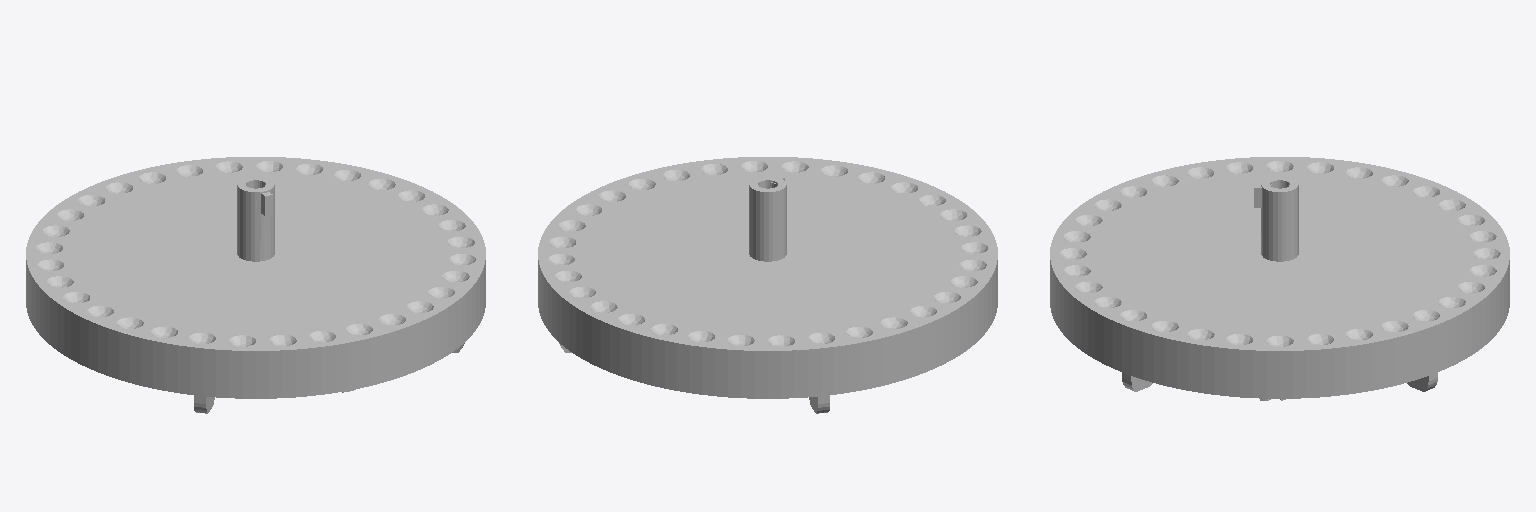
File: MDial.obj
3 renders of one model, left to right at view 1: azimuth 30°, elevation 25°; view 2: azimuth 150°, elevation 25°; view 3: azimuth 270°, elevation 25°, orthographic.
Bounding box in the file's own units: 52.25 × 17.94 × 52.25.